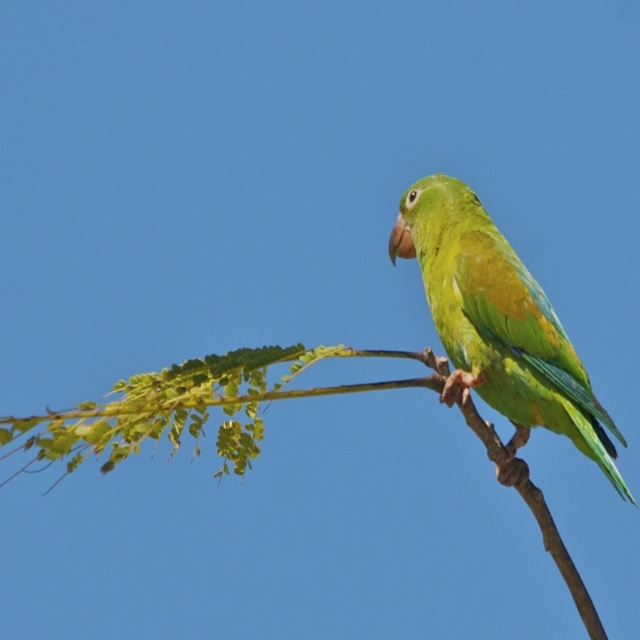Parrot: (389, 173, 638, 506)
